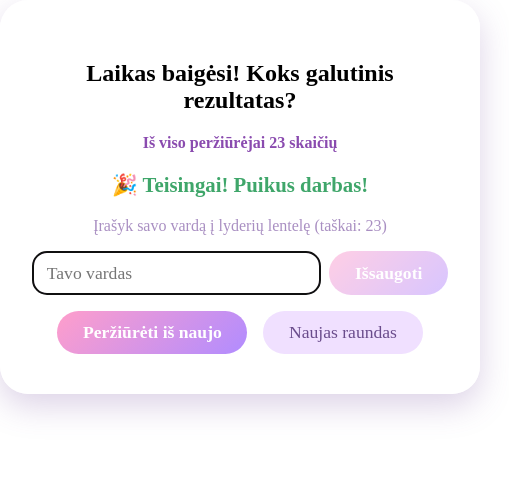
Test: AnswerScreen leaderboard entry › submits the round's points and shows the placement with the player highlighted
Type "Ona" into the field labelled "vardas" at (177, 273), box [32, 251, 321, 295]
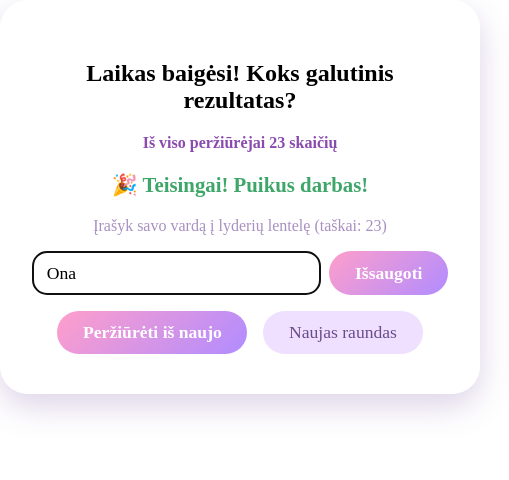
Click the button "Išsaugoti" at (389, 273), box [329, 251, 448, 295]
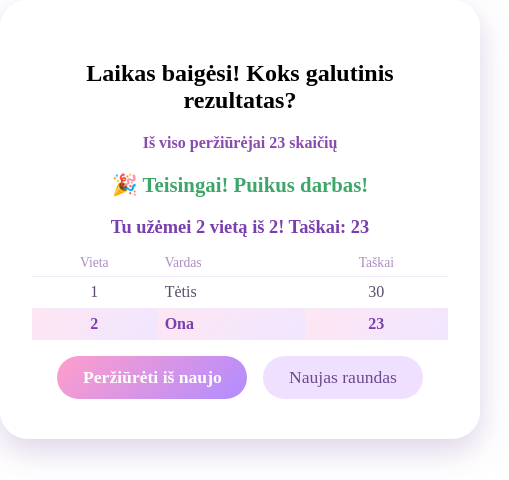
Expected: the text "Tu užėmei 2 vietą iš 2! Taškai: 23" is shown, [111, 217, 369, 237]
Expected: the row "2 Ona 23" is shown, [32, 308, 448, 340]
Expected: the cell "Ona" is shown, [157, 308, 305, 340]
